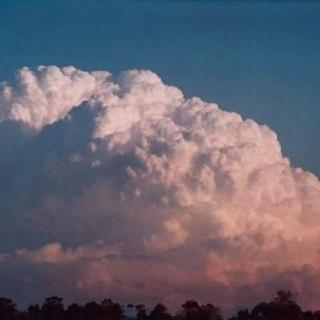Cumulonimbus: (0, 13, 320, 302)
